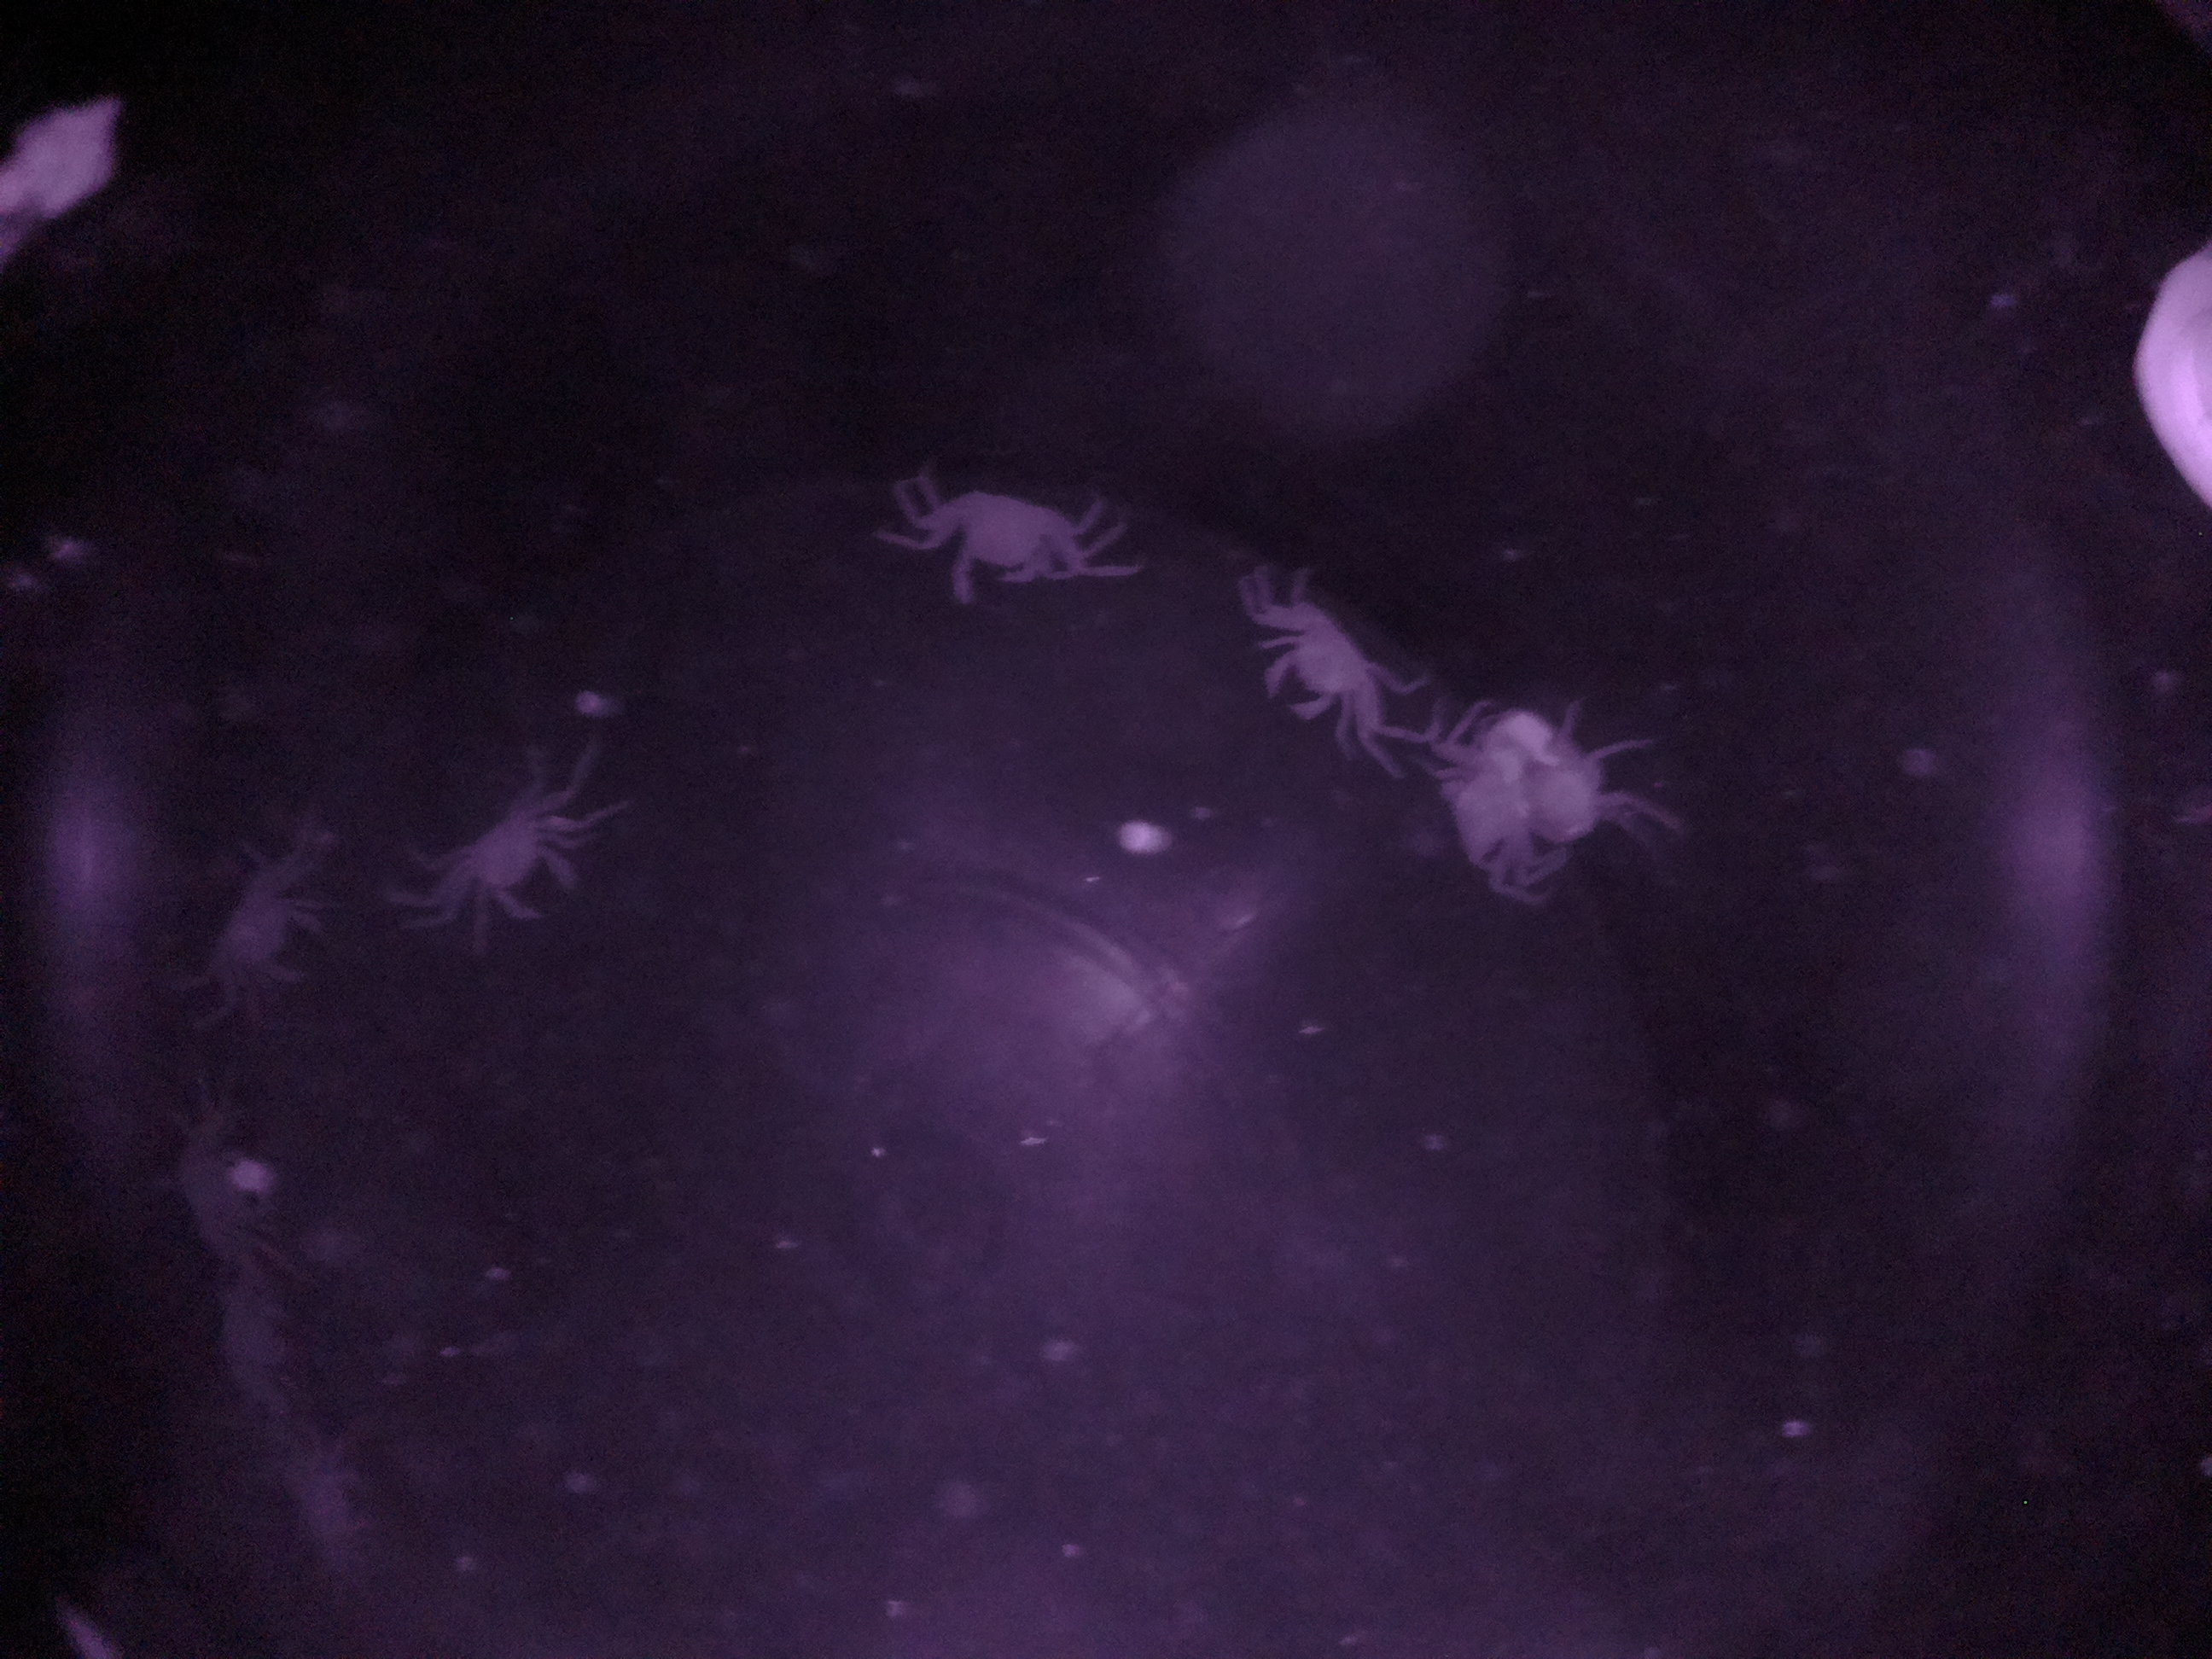Crab: (887, 434, 1101, 640), (1219, 570, 1428, 749), (174, 836, 366, 1011), (439, 763, 585, 946)
